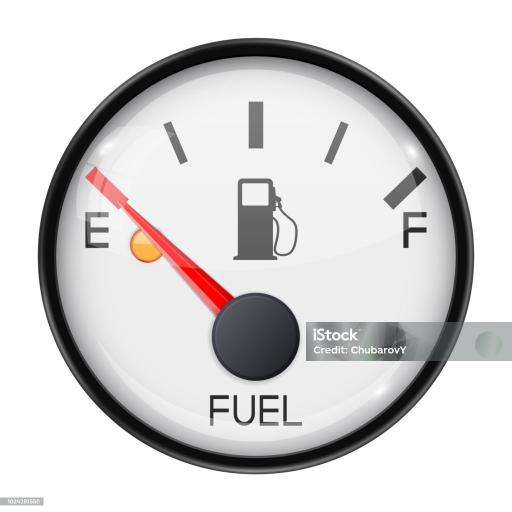empty: (82, 208, 120, 254)
fuel_icon: (228, 175, 300, 265)
full: (396, 211, 434, 252)
guage_area: (38, 38, 474, 475)
needle_center: (208, 291, 307, 386)
needle_tip: (112, 197, 142, 214)
